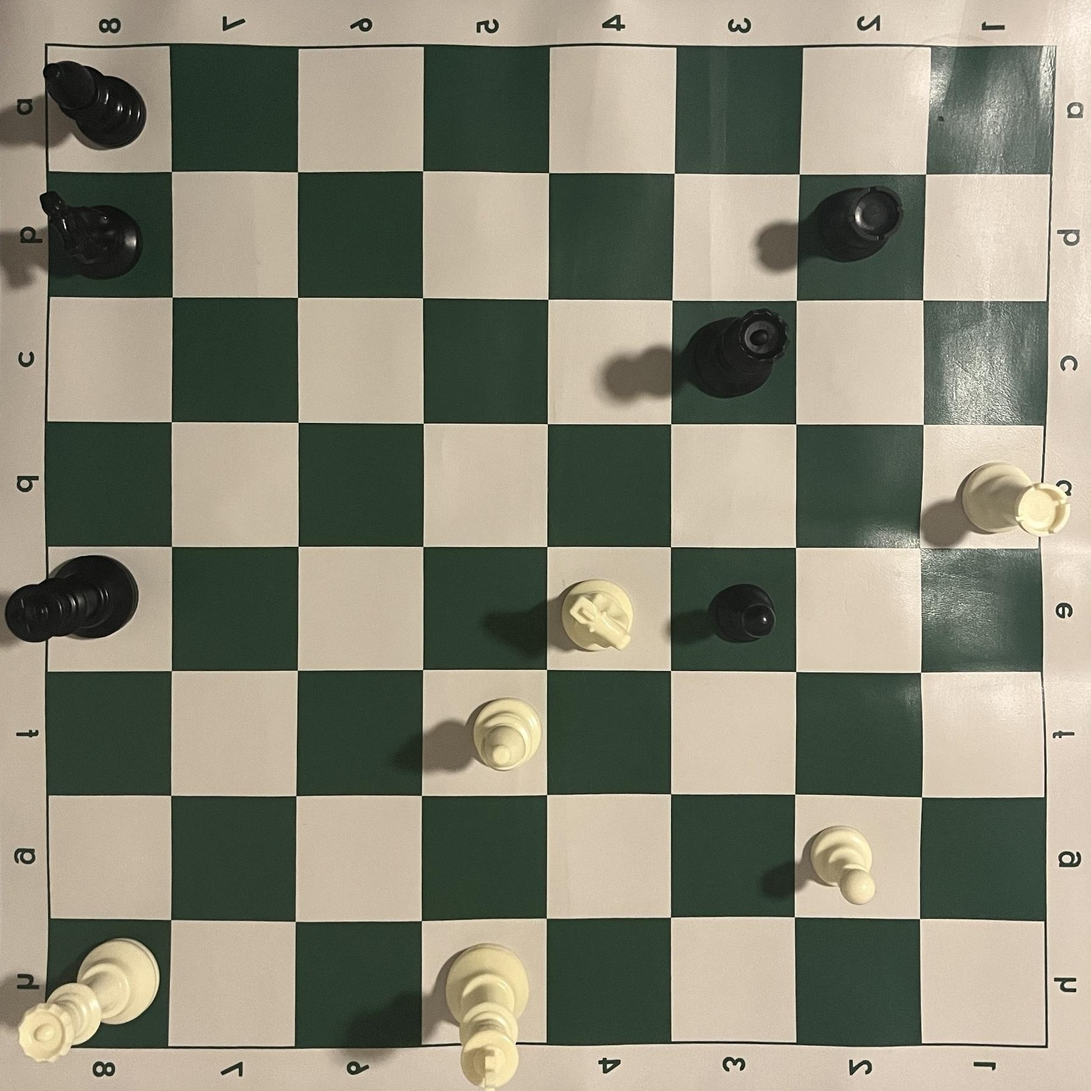black_bishop: (42, 60, 147, 149)
black_king: (4, 553, 140, 644)
black_knight: (39, 190, 144, 280)
black_pawn: (708, 581, 777, 644)
black_queen: (678, 308, 790, 400)
black_rook: (808, 184, 905, 263)
white_bishop: (471, 698, 542, 773)
white_king: (445, 942, 530, 1090)
white_knight: (560, 578, 634, 655)
white_pawn: (808, 825, 878, 906)
white_queen: (18, 937, 162, 1064)
white_rook: (960, 460, 1071, 536)
